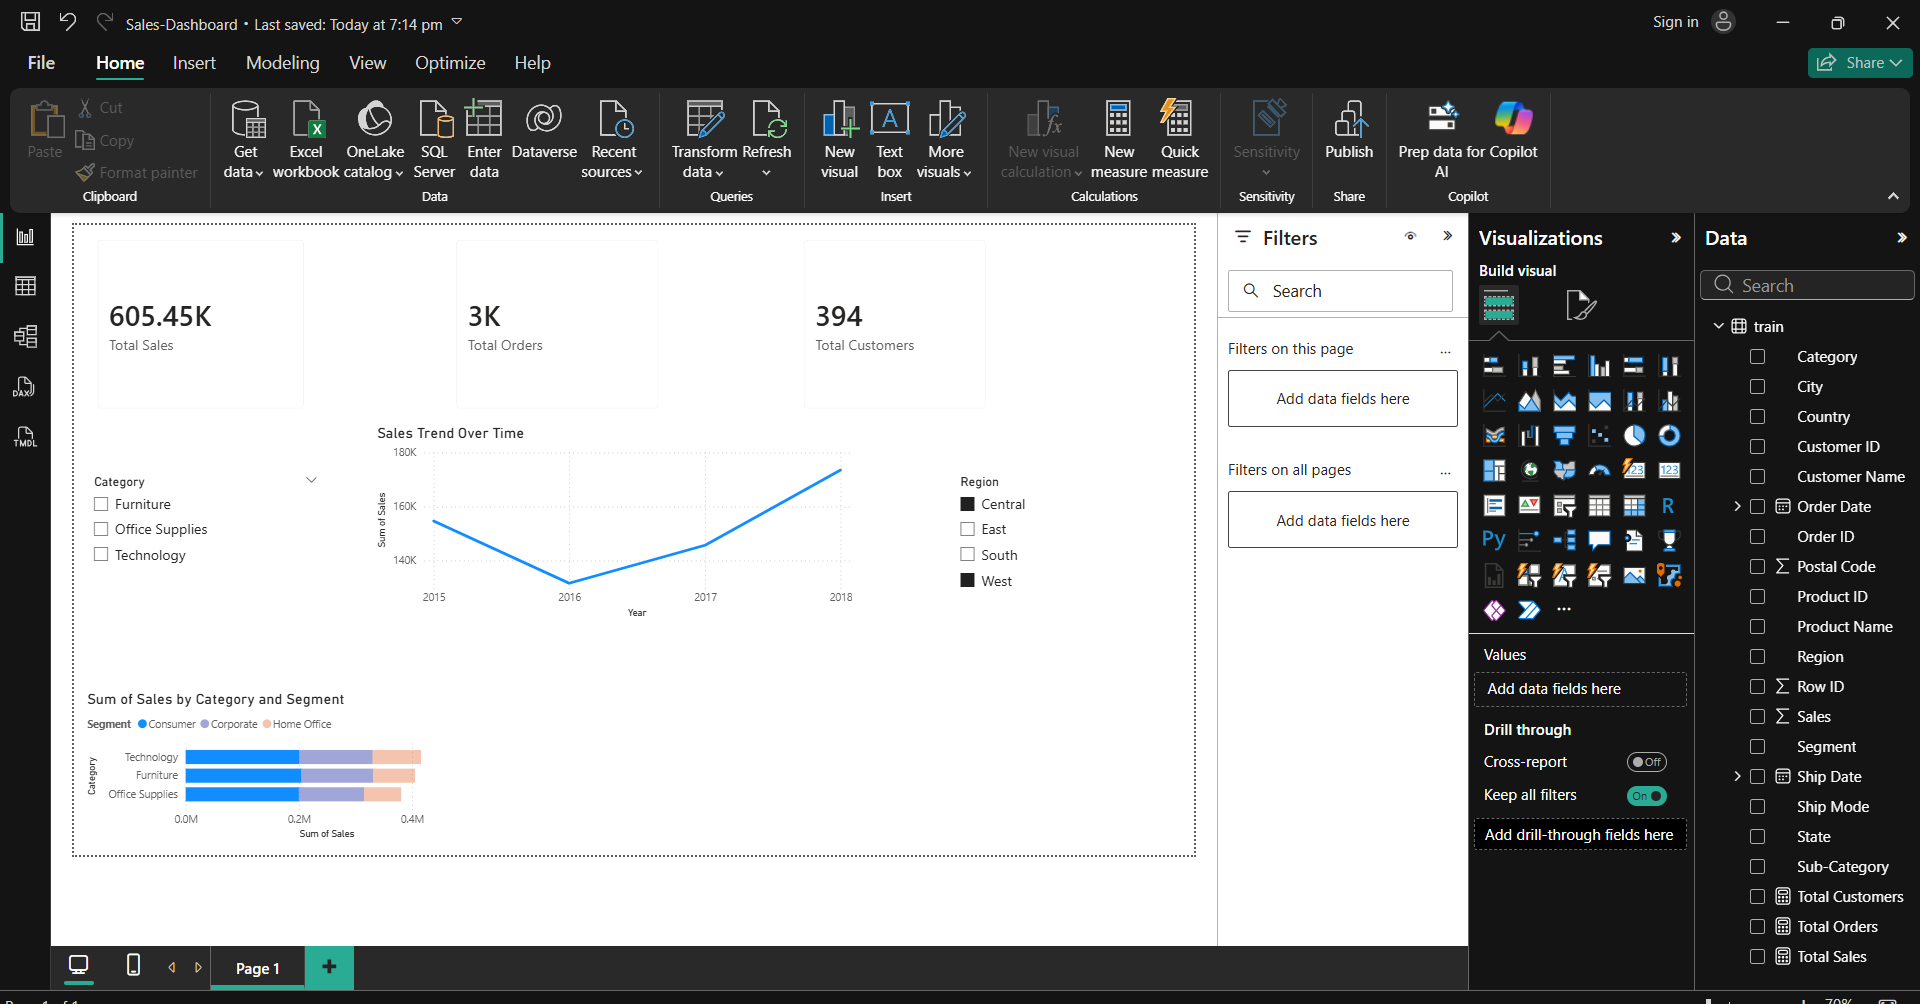

The dashboard page shown, as its layout file describes it:
{"tool":"powerbi","page":{"name":"Page 1","canvas":[1280,720],"ordinal":0},"visuals":[{"type":"cardVisual","fields":{"Data":["train.Total Sales"]},"box":[10,0,270,227.1],"z":0},{"type":"cardVisual","fields":{"Data":["train.Total Orders"]},"box":[420.7,0,265.7,227.1],"z":1000},{"type":"cardVisual","fields":{"Data":["train.Total Customers"]},"box":[817.1,0,242.9,227.1],"z":2000},{"type":"lineChart","title":"Sales Trend Over Time","fields":{"Category":["train.Order Date.Variation.Date Hierarchy.Year","train.Order Date.Variation.Date Hierarchy.Quarter","train.Order Date.Variation.Date Hierarchy.Month","train.Order Date.Variation.Date Hierarchy.Day"],"Y":["Sum(train.Sales)"]},"box":[341.4,227.1,552.9,227.1],"z":3000},{"type":"barChart","fields":{"Category":["train.Category"],"Y":["Sum(train.Sales)"],"Series":["train.Segment"]},"box":[10,531.4,460,175.7],"z":4000},{"type":"slicer","fields":{"Values":["train.Region"]},"box":[1000,280,280,161.4],"z":4001},{"type":"slicer","fields":{"Values":["train.Category"]},"box":[10,280,280,161.4],"z":4002}]}

Visuals, with their boxes on the page's 1280x720 design canvas (x1, y1, x2, y2). These are canvas units, not pixel positions in the 1920x1004 screenshot, which may show the page scaled, cropped or inside an application window:
cardVisual - train.Total Sales: box=[10, 0, 280, 227]
cardVisual - train.Total Orders: box=[421, 0, 686, 227]
cardVisual - train.Total Customers: box=[817, 0, 1060, 227]
"Sales Trend Over Time" lineChart: box=[341, 227, 894, 454]
barChart - train.Category x Sum(train.Sales): box=[10, 531, 470, 707]
slicer - train.Region: box=[1000, 280, 1280, 441]
slicer - train.Category: box=[10, 280, 290, 441]
